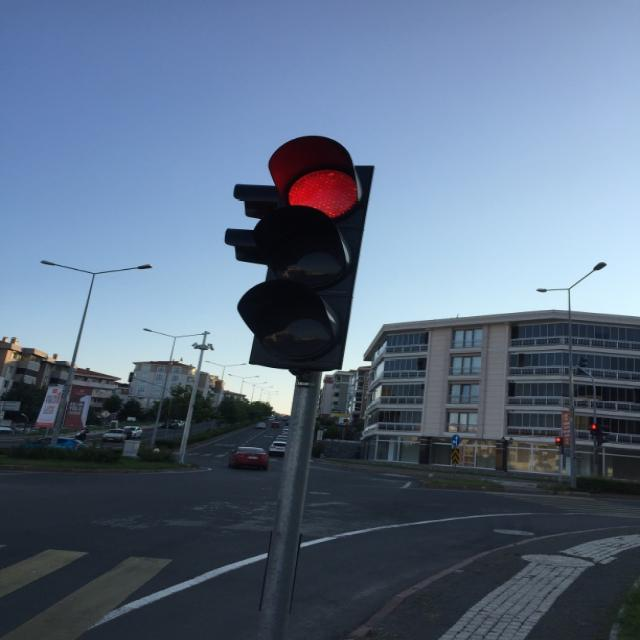kirmizi: (268, 134, 358, 384)
